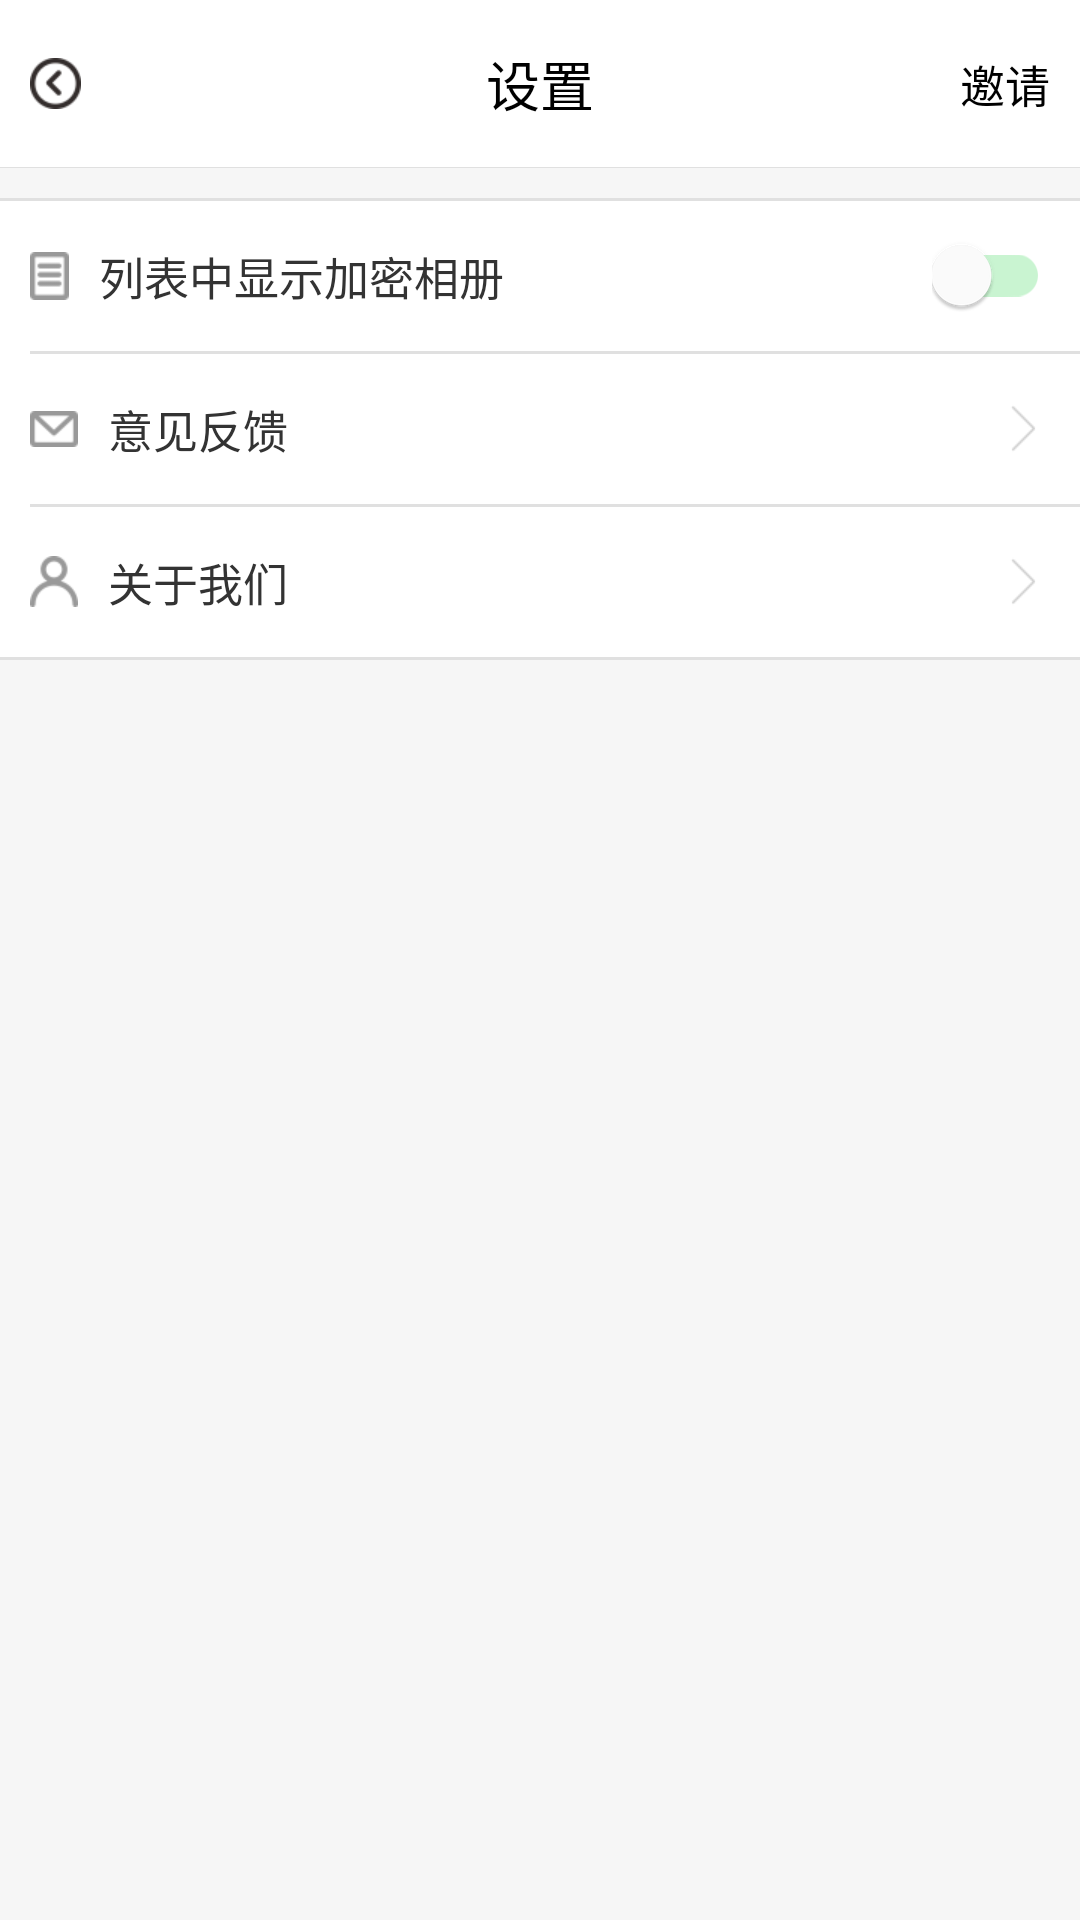

Icons on this 1080w x 1920h Android screen, each with the point to tap as (x=x, y=y):
back: (x=55, y=83)
